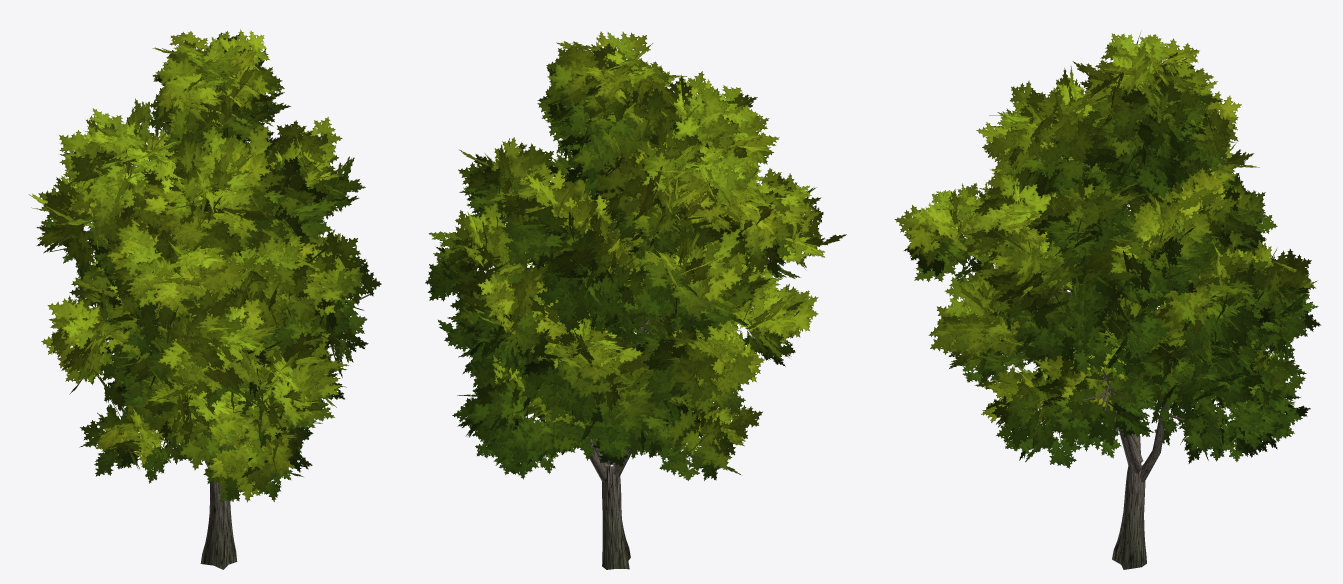
File: maple-small-mid.glb
The picture shows the model from 3 angles, left to right: view 1: azimuth 30°, elevation 25°; view 2: azimuth 150°, elevation 25°; view 3: azimuth 270°, elevation 25°; orthographic projection.
Parts seen in each view (by area): view 1: Leaves, Bark; view 2: Leaves, Bark; view 3: Leaves, Bark.
Boxes of the visible parts, x1,y1,x2,y2 form: Leaves: (28, 29, 381, 502); Bark: (153, 293, 370, 569); Leaves: (425, 31, 846, 480); Bark: (539, 317, 694, 569); Leaves: (894, 32, 1321, 468); Bark: (1044, 288, 1188, 569).
Size of the model in its own units: 4.66 by 7.36 by 5.72.
Materials: 2 (2 with a texture image).
